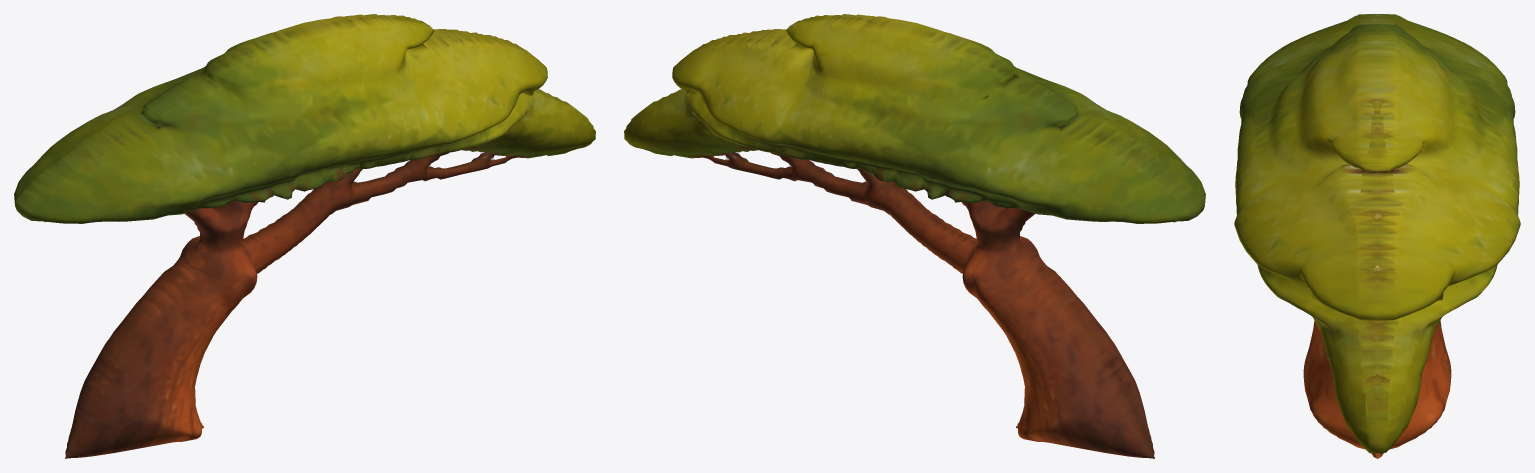
The model's file is 02_acacia_trees_r01_c01.glb.
3 views of the same model, side by side, from view 1: azimuth 30°, elevation 25°; view 2: azimuth 150°, elevation 25°; view 3: azimuth 270°, elevation 25° (orthographic). The views are drawn at different scales.
Parts seen in each view (by area): view 1: 02_acacia_trees_r01_c01; view 2: 02_acacia_trees_r01_c01; view 3: 02_acacia_trees_r01_c01.
Boxes of the visible parts, left/top/right/bottom form: 02_acacia_trees_r01_c01: left=14, top=14, right=595, bottom=458; 02_acacia_trees_r01_c01: left=624, top=14, right=1205, bottom=458; 02_acacia_trees_r01_c01: left=1234, top=14, right=1520, bottom=458.
Size of the model in its own units: 4.07 by 2.54 by 1.44.
1 material, 1 textured.
